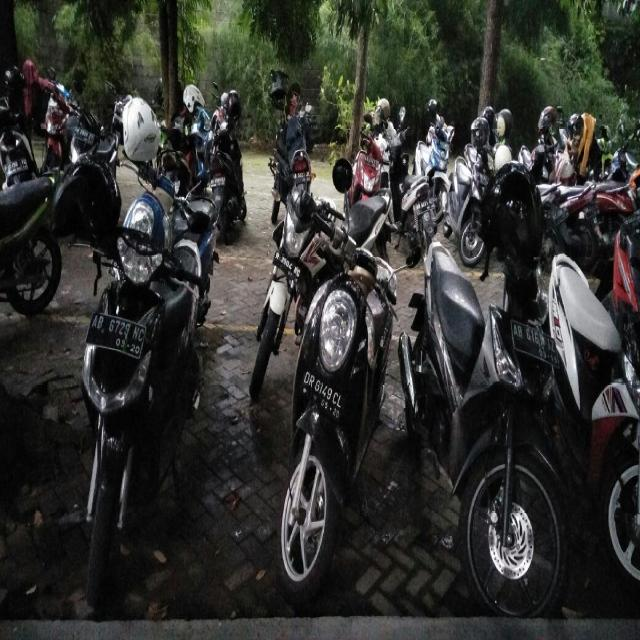plate: (86, 310, 144, 358), (510, 316, 558, 367), (302, 366, 344, 424), (273, 248, 301, 282)
